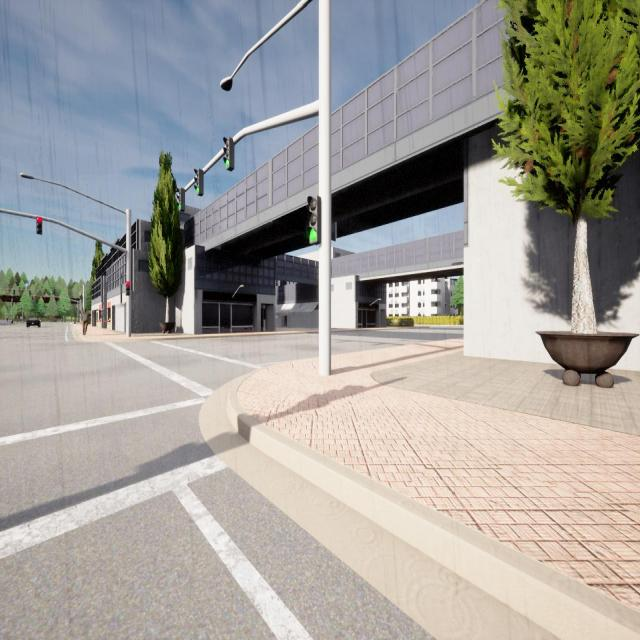Pedestrian: (82, 308, 89, 336)
Vehicle: (26, 316, 41, 328)
traffic_light: (308, 196, 321, 244), (223, 137, 234, 171), (194, 168, 203, 196), (177, 188, 185, 211), (36, 216, 42, 235), (126, 282, 130, 296), (29, 290, 31, 296), (32, 296, 34, 300), (58, 297, 60, 301), (14, 290, 15, 295), (44, 296, 45, 300), (80, 295, 81, 299), (81, 295, 82, 299)
